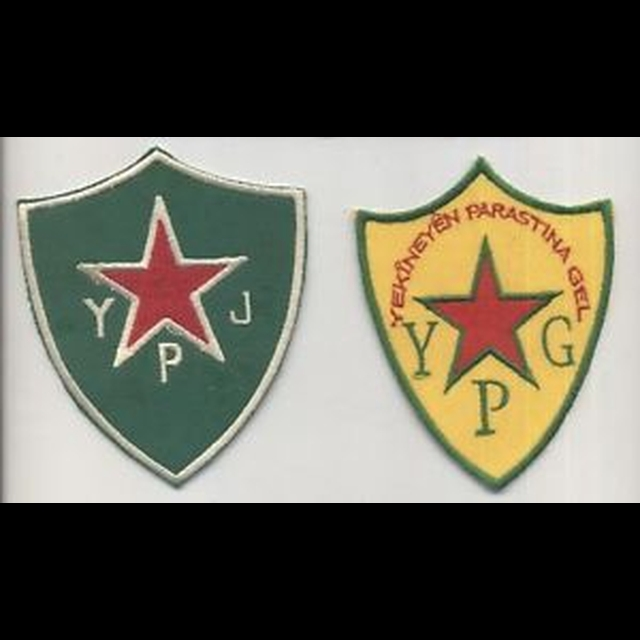YPG: (406, 229, 575, 435)
YPJ: (70, 195, 262, 387)
